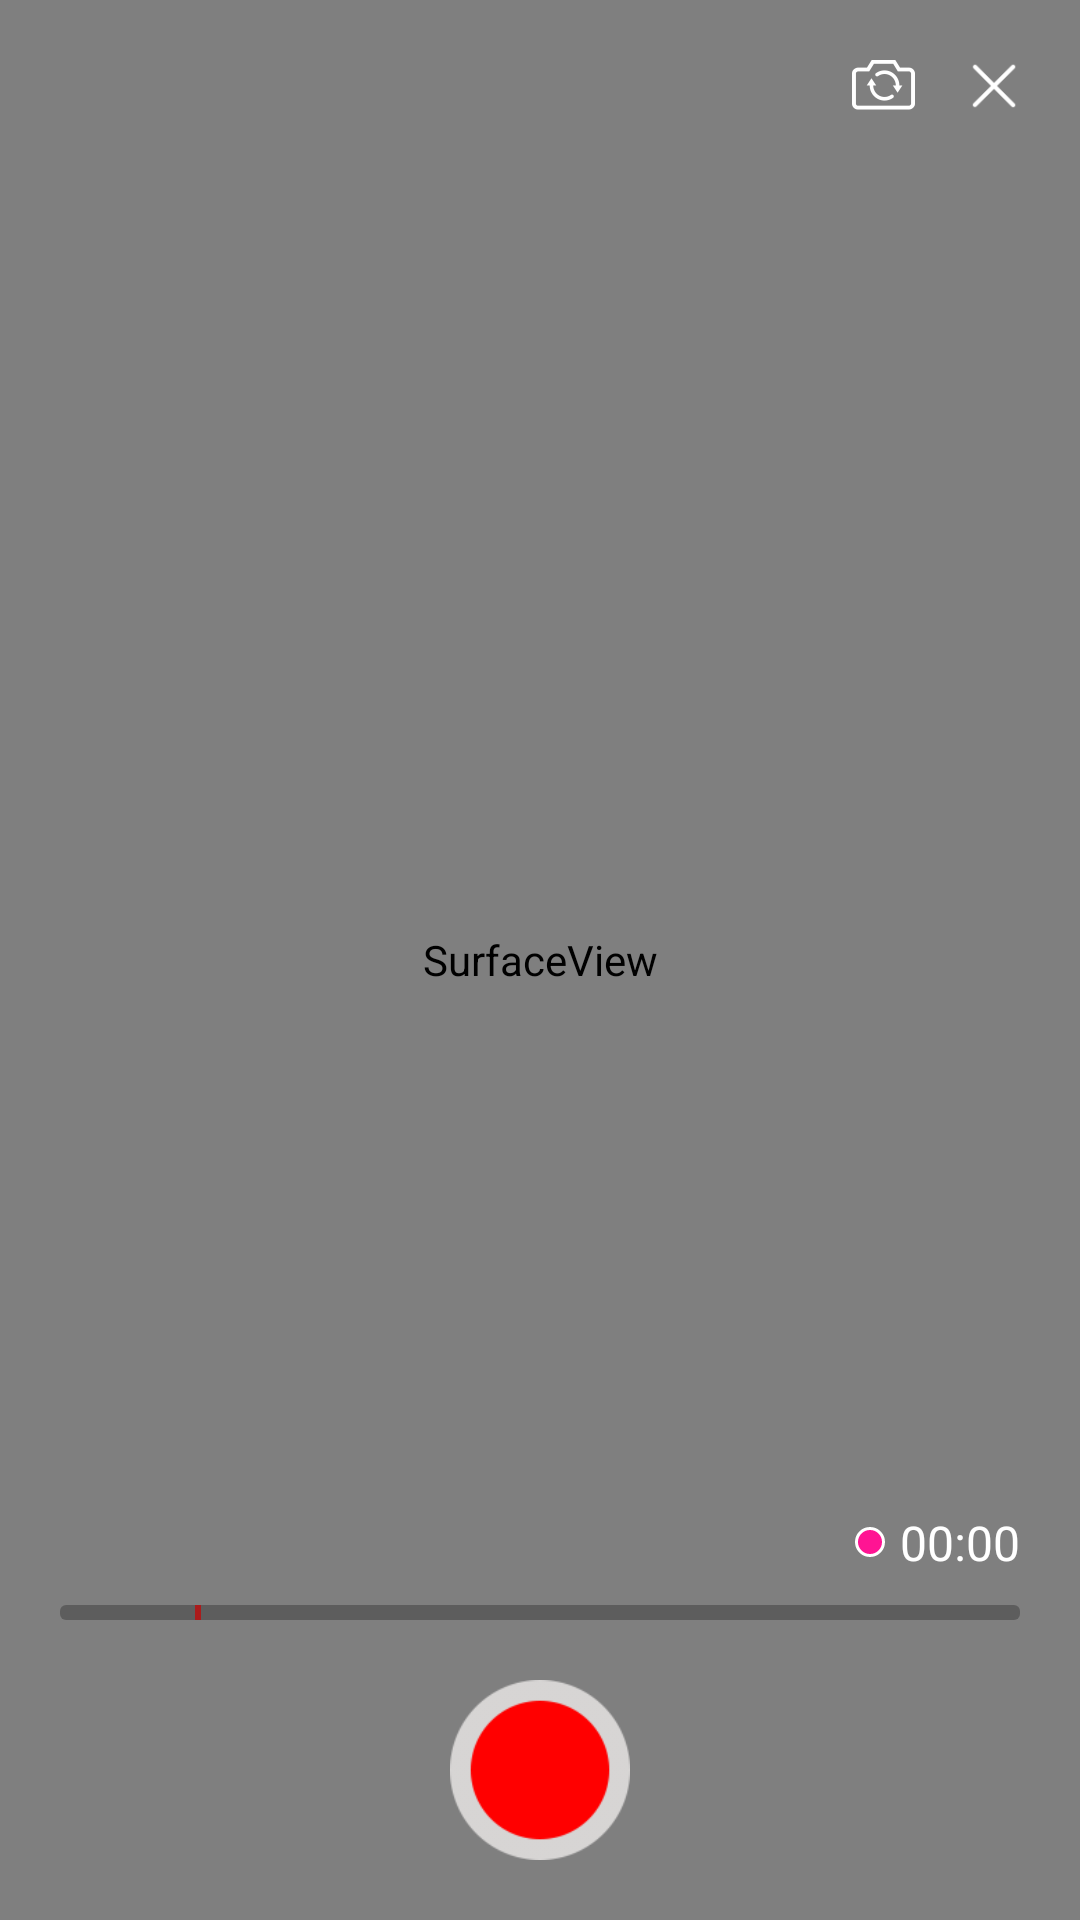

Icons on this 1080×1920 Android screen, each with the point to tap as (x,y):
fanzhuan: (883,85)
live close: (994,85)
start: (540,1770)
